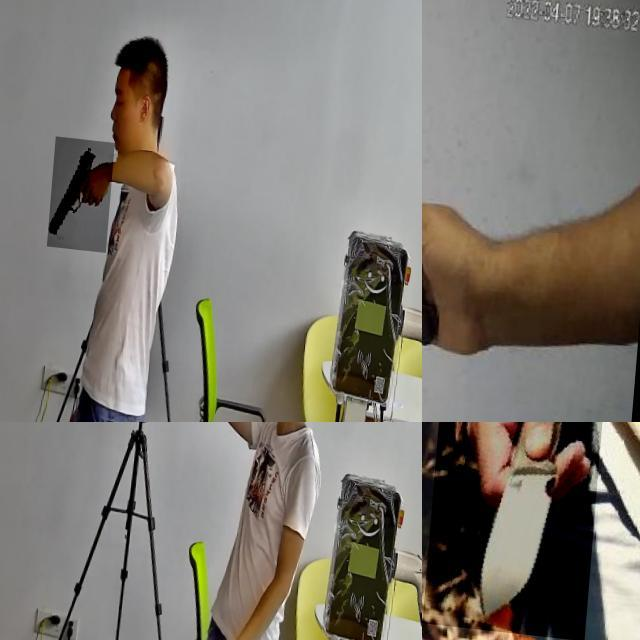-: (432, 422, 611, 633), (422, 63, 509, 290)
gun-knife-thesis - v11 Yolov5 augmented: (53, 132, 119, 247), (124, 422, 199, 462)
